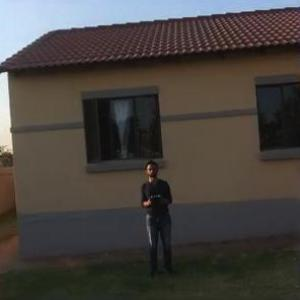follow: (136, 152, 178, 287)
